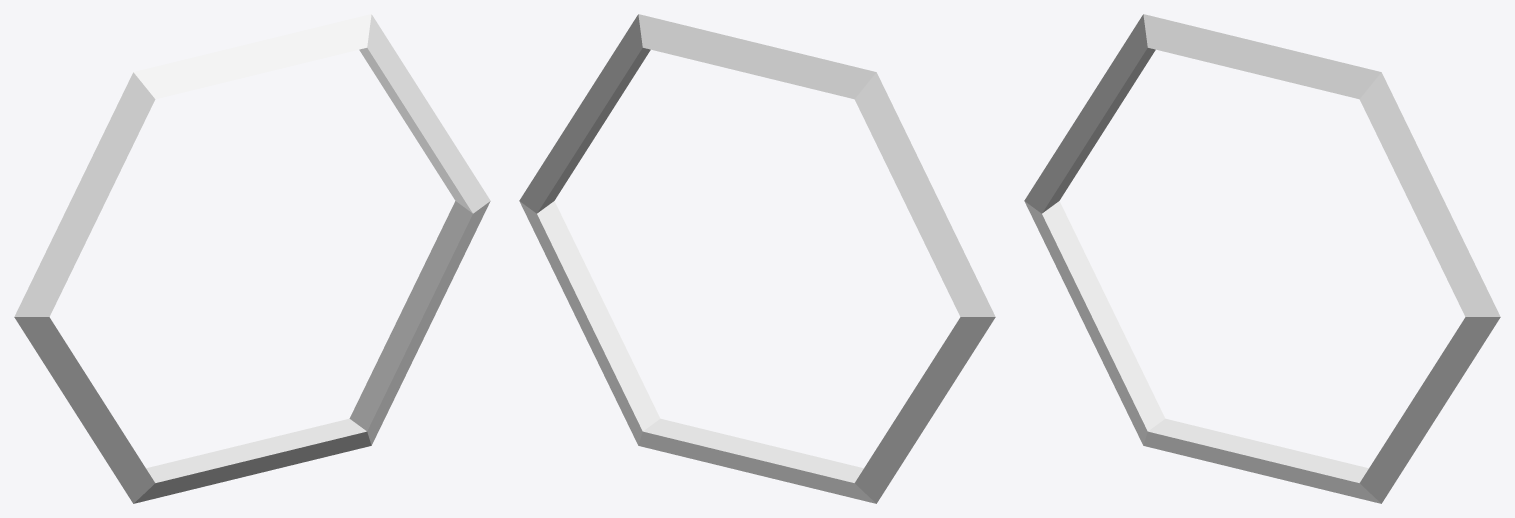
File: ring.obj
The picture shows the model from 3 angles, left to right: view 1: azimuth 30°, elevation 25°; view 2: azimuth 150°, elevation 25°; view 3: azimuth 330°, elevation 25°; orthographic projection.
Visible parts, largest first — view 1: トーラス; view 2: トーラス; view 3: トーラス.
Part boxes in pixels (bbox=[...]): トーラス: bbox=[14, 14, 490, 503]; トーラス: bbox=[519, 14, 995, 503]; トーラス: bbox=[1024, 14, 1500, 503].
Size of the model in its own units: 2.7 by 2.34 by 0.1732.
1 material, 1 textured.
